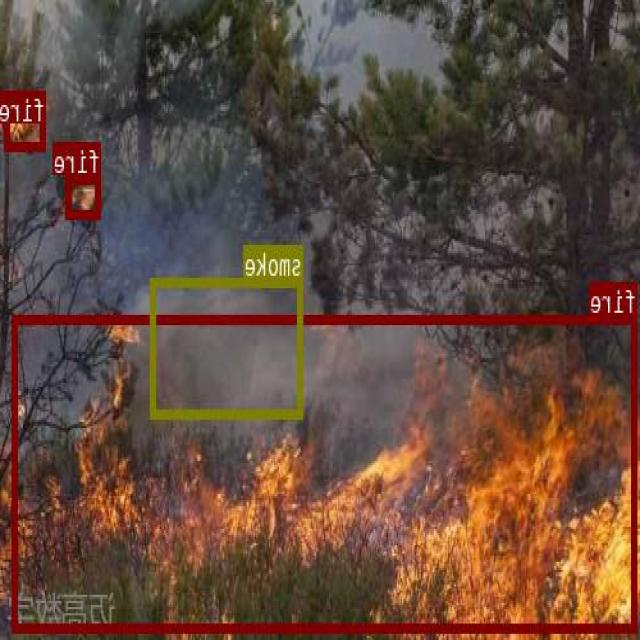fire: (13, 313, 638, 631), (5, 90, 48, 149), (67, 175, 101, 216)
smoke: (152, 276, 304, 416)
